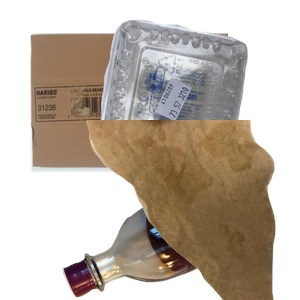cardboard: (28, 31, 249, 195)
glass: (60, 180, 300, 300)
plastic: (97, 17, 300, 176)
trash: (84, 120, 300, 300)
